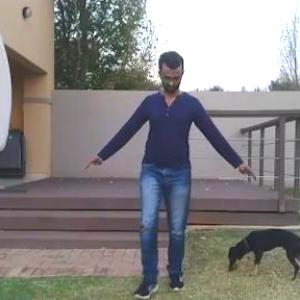land: (89, 52, 242, 295)
